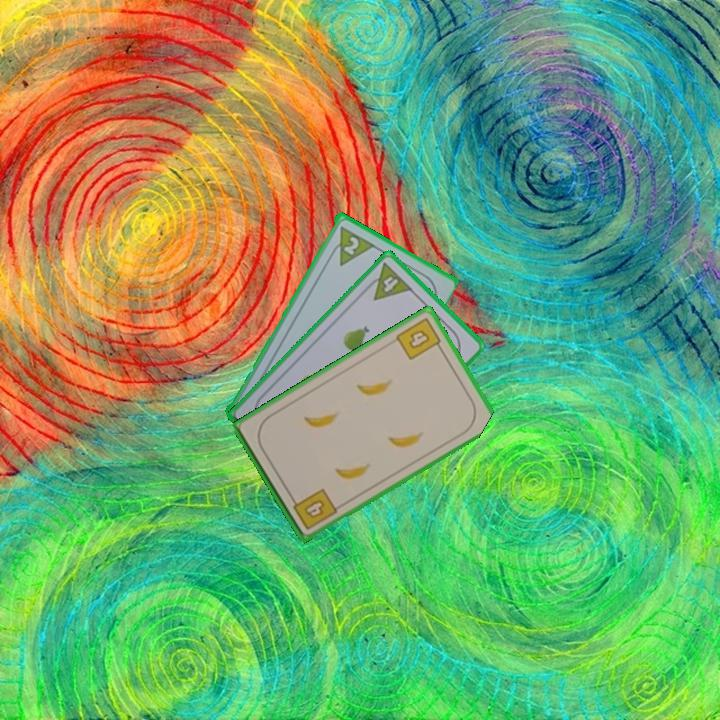2p: (339, 232, 362, 258)
4b: (392, 313, 446, 363), (287, 485, 340, 533)
4p: (360, 259, 415, 303)
